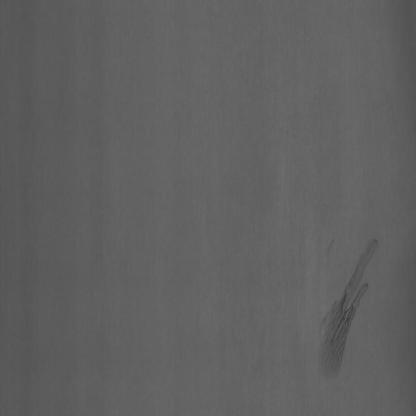water_spot: (315, 228, 384, 386)
